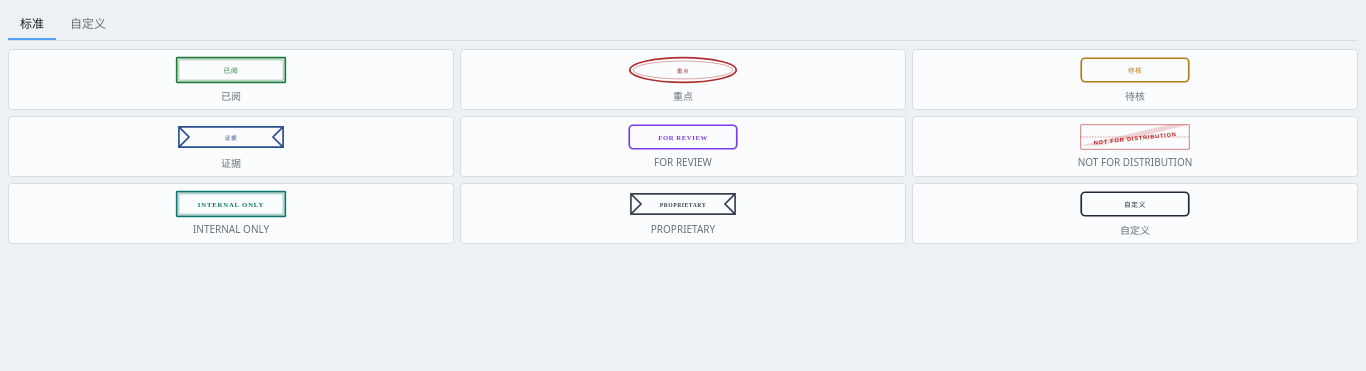
Test: StampPanel (ISS-NEW-N-P04) › 切到自定义 tab：标准预设消失，渲染 CustomStampPanel 上传入口
Click the tab "自定义" at [88, 24], box left=58, top=8, right=118, bottom=40
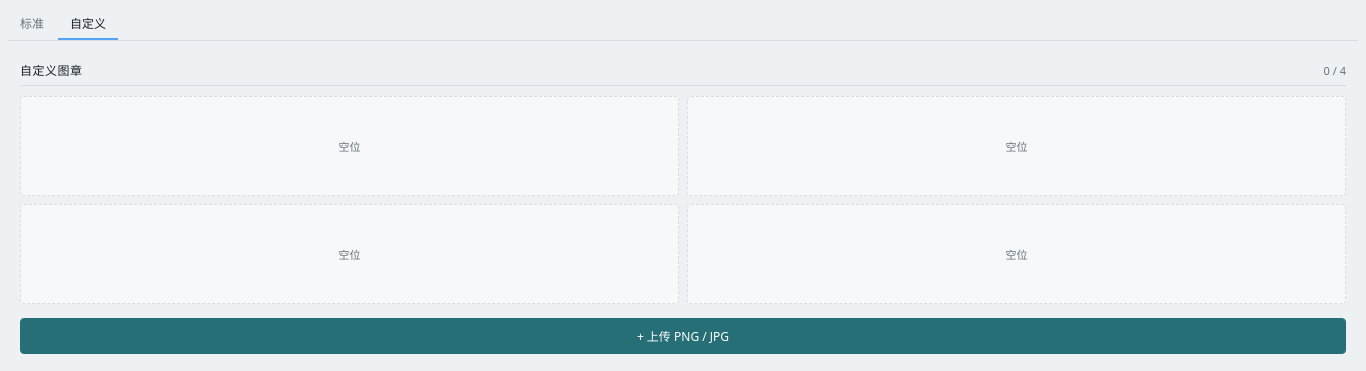
Result: the element with test id "stamp-panel-standard-grid" is gone
Result: the button with test id "custom-stamp-panel-upload" is shown at left=20, top=318, right=1346, bottom=354
